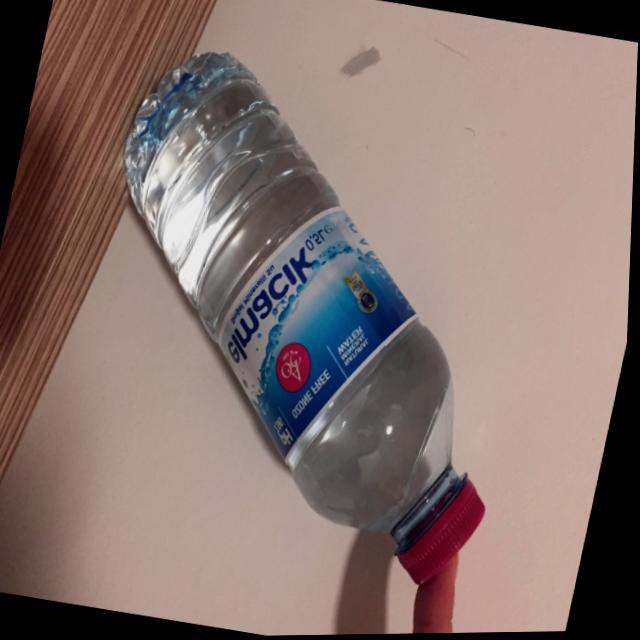anorganik: (11, 0, 594, 619)
